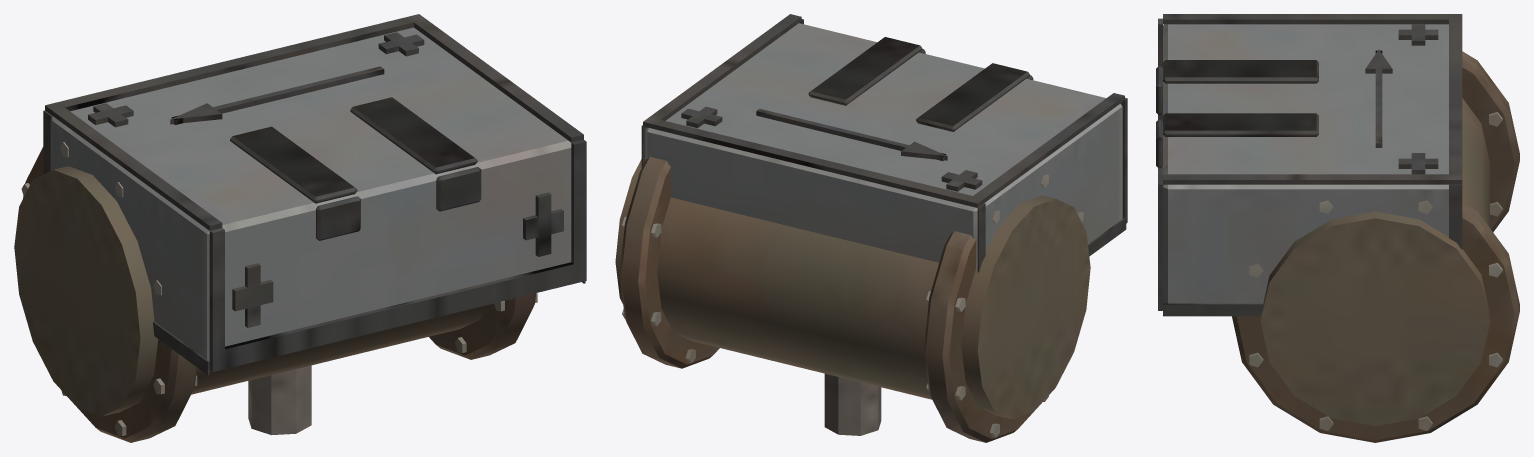
File: one-way-valve-west.glb
The picture shows the model from 3 angles, left to right: view 1: azimuth 30°, elevation 25°; view 2: azimuth 150°, elevation 25°; view 3: azimuth 270°, elevation 25°; orthographic projection. The views are drawn at different scales.
Visible parts, largest first — view 1: body; view 2: body; view 3: body.
Part boxes in pixels (x1,y1,x2,y2): body: (14, 14, 586, 442); body: (615, 14, 1127, 442); body: (1156, 14, 1519, 442).
Bounding box in the file's own units: 1 × 0.776 × 0.856.
Materials: 1 (1 with a texture image).
